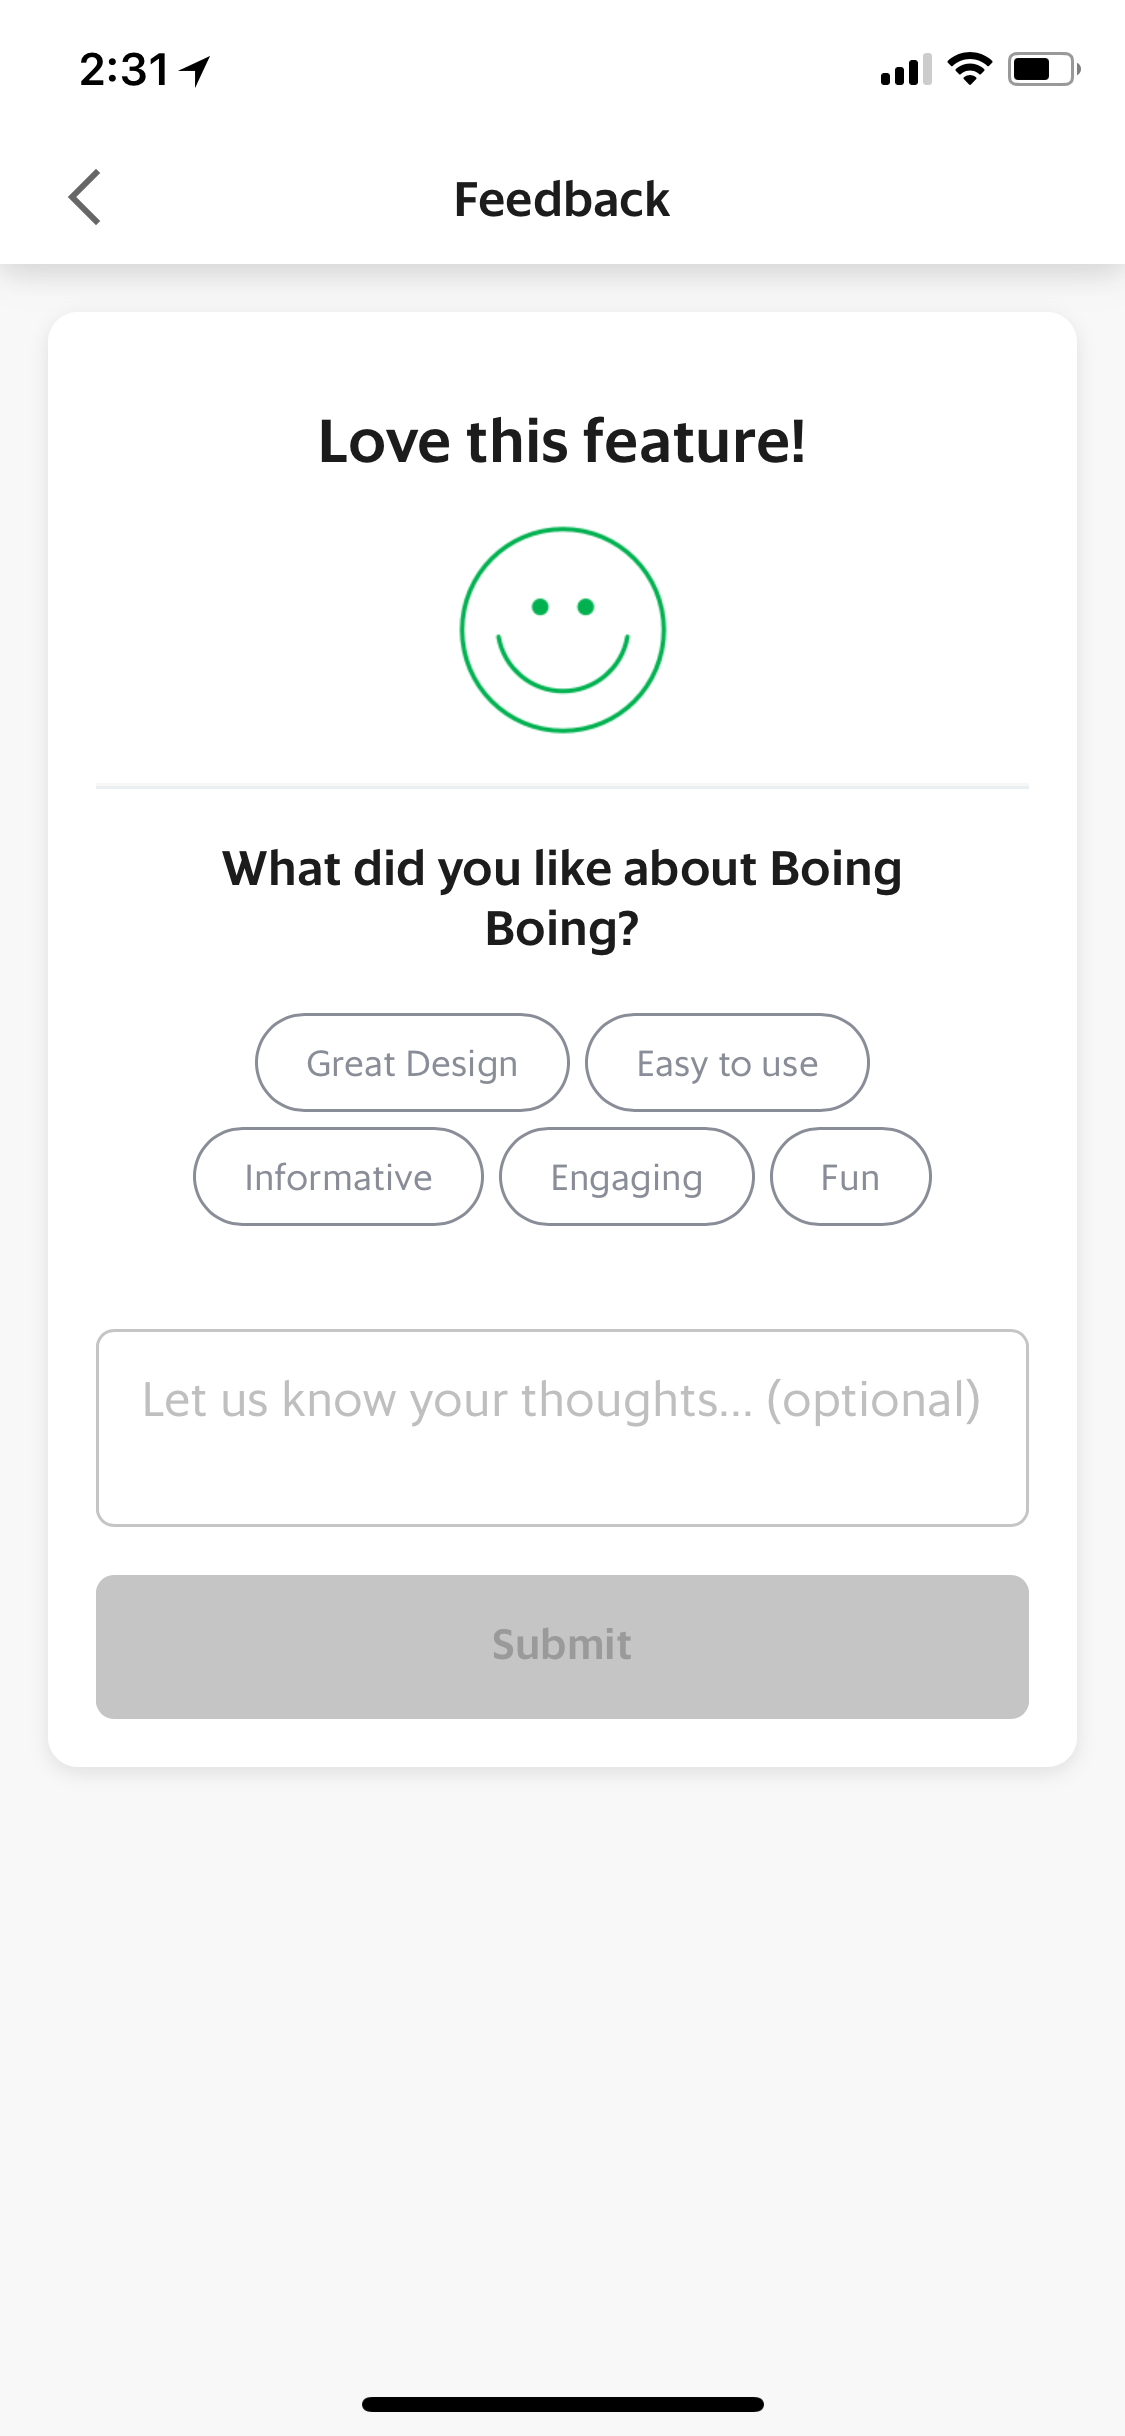Buttons: (85, 1552, 1047, 1745), (30, 123, 145, 247)
Text Fields: (85, 1311, 1043, 1543)
